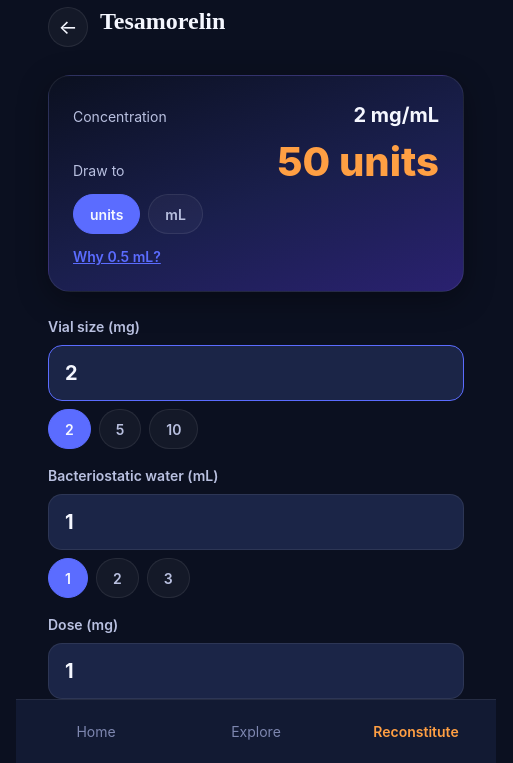
reconstitution wedge — end-to-end (offline persistence) › surfaces the dose-exceeds-vial warning (D > M)
The image size is (513, 763).
Check: the heading "Tesamorelin" is shown, box [100,3,225,39]
Click the field labelled "Vial size (mg)" at coordinates (256, 373), box [48,345,464,401]
(page scrolled)
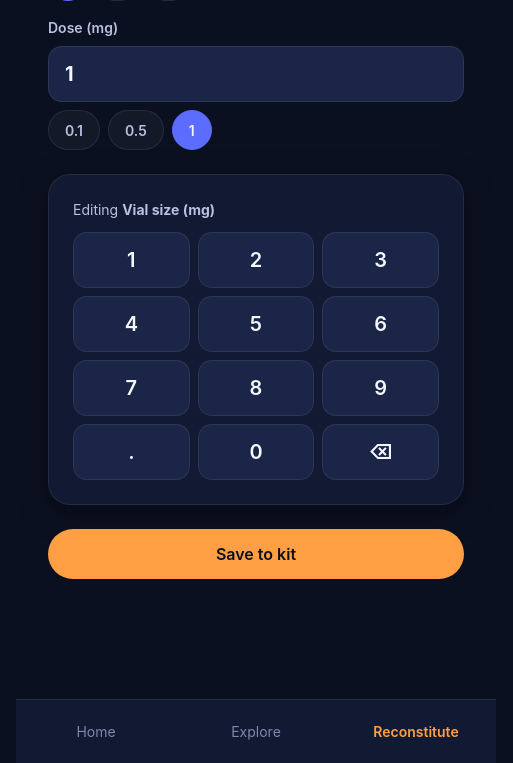
Click the button named "Backspace" at coordinates (381, 452), box [322,424,439,480]
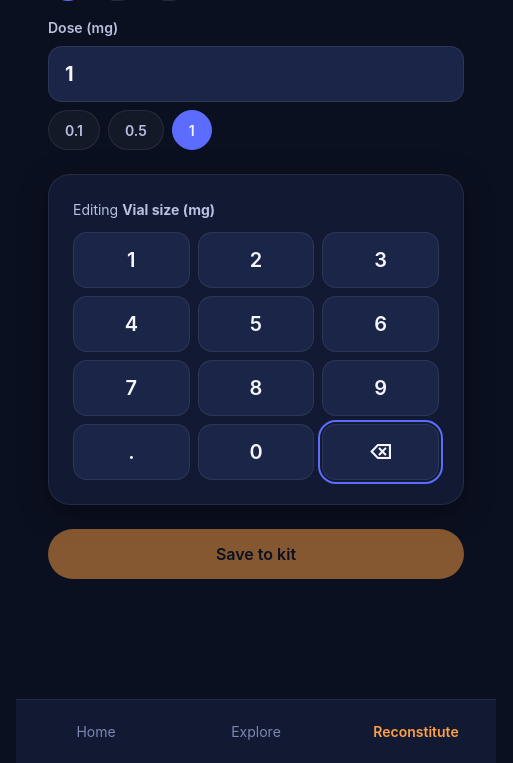
Click the button "." at coordinates (131, 452), box [73,424,190,480]
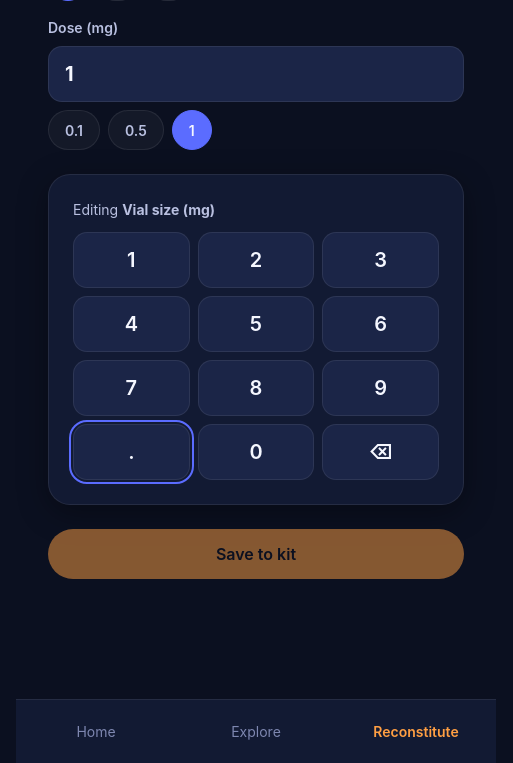
Click the button "5" at coordinates (256, 324), box [198,296,314,352]
(page scrolled)
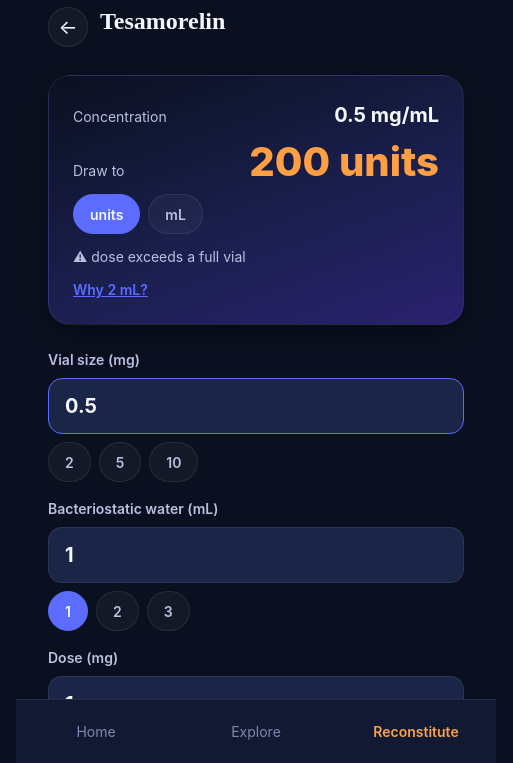
Check: the field labelled "Vial size (mg)" holds "0.5", box [48,378,464,434]
Check: the message shows "dose exceeds a full vial", box [91,248,246,265]
